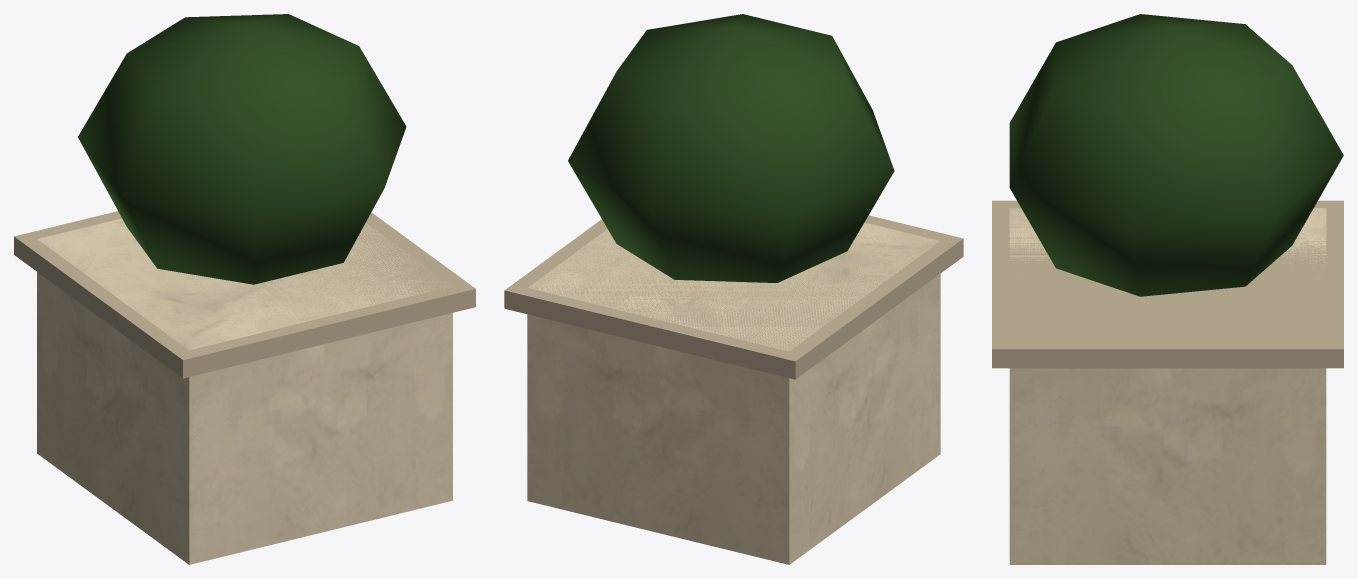
The model's file is planter.glb.
The picture shows the model from 3 angles, left to right: view 1: azimuth 30°, elevation 25°; view 2: azimuth 150°, elevation 25°; view 3: azimuth 270°, elevation 25°; orthographic projection. The views are drawn at different scales.
Visible parts, largest first — view 1: planter; view 2: planter; view 3: planter.
Part boxes in pixels (bbox=[...]): planter: bbox=[14, 14, 475, 564]; planter: bbox=[504, 14, 963, 564]; planter: bbox=[992, 14, 1343, 564].
Bounding box in the file's own units: 1 × 1.48 × 1.
Materials: 3 (1 with a texture image).
